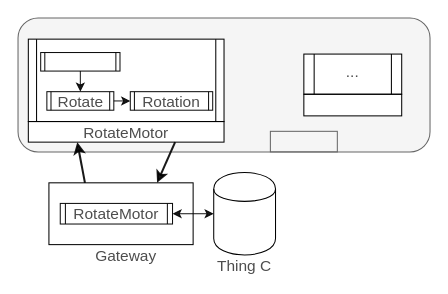
This 448x294 diagram has some shape labels left out. Here are the shapes that lost their labels. From the top down, the box of each, then its label:
(40, 52, 120, 71): Initialize
(303, 93, 402, 116): SafeStop
(269, 130, 337, 152): Thing A
